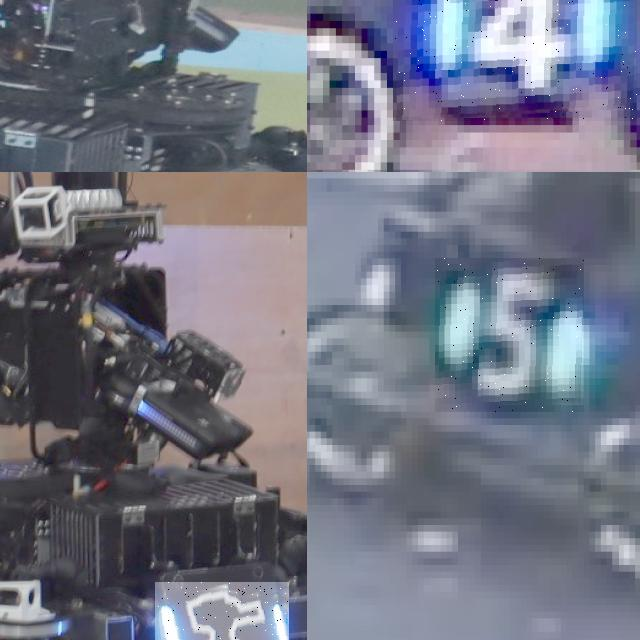B4: (393, 0, 636, 121)
B5: (435, 258, 584, 412)
Bs: (155, 582, 288, 640)
